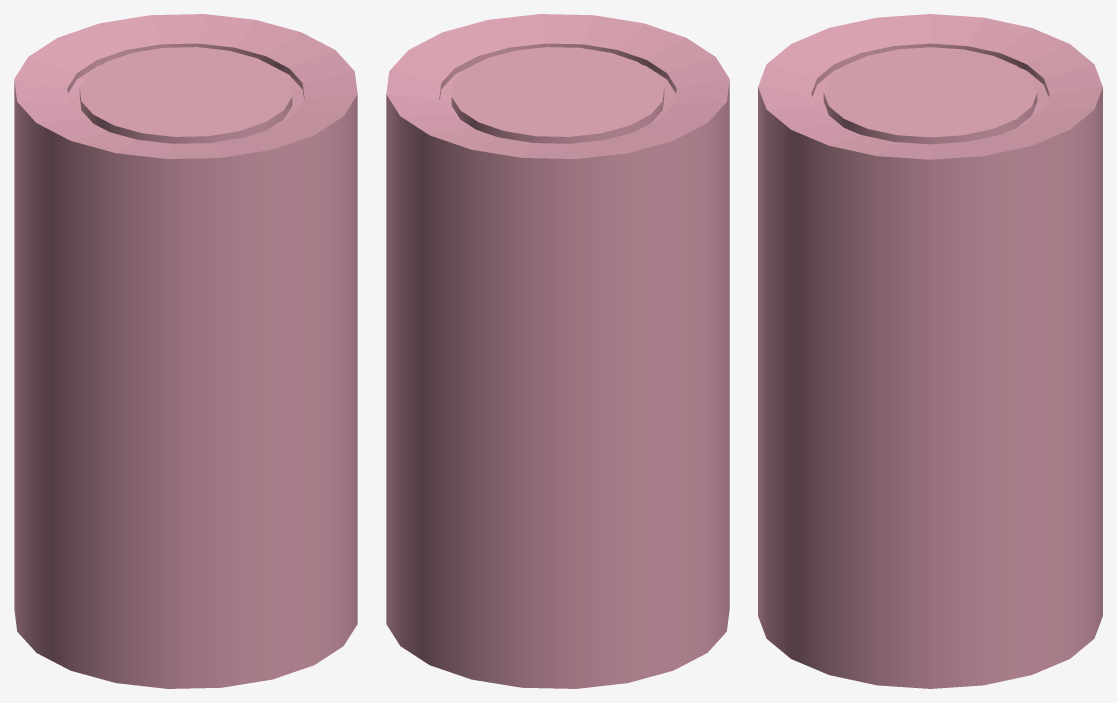
The model's file is PokerChipStack2.fbx.
The picture shows the model from 3 angles, left to right: view 1: azimuth 30°, elevation 25°; view 2: azimuth 150°, elevation 25°; view 3: azimuth 270°, elevation 25°; orthographic projection.
Visible parts, largest first — view 1: PokerChipStack2; view 2: PokerChipStack2; view 3: PokerChipStack2.
Part boxes in pixels (x1=…): PokerChipStack2: x1=14, y1=14, x2=357, y2=688; PokerChipStack2: x1=386, y1=14, x2=729, y2=688; PokerChipStack2: x1=758, y1=14, x2=1102, y2=688.
Bounding box in the file's own units: 5.71 × 9.66 × 5.71.
